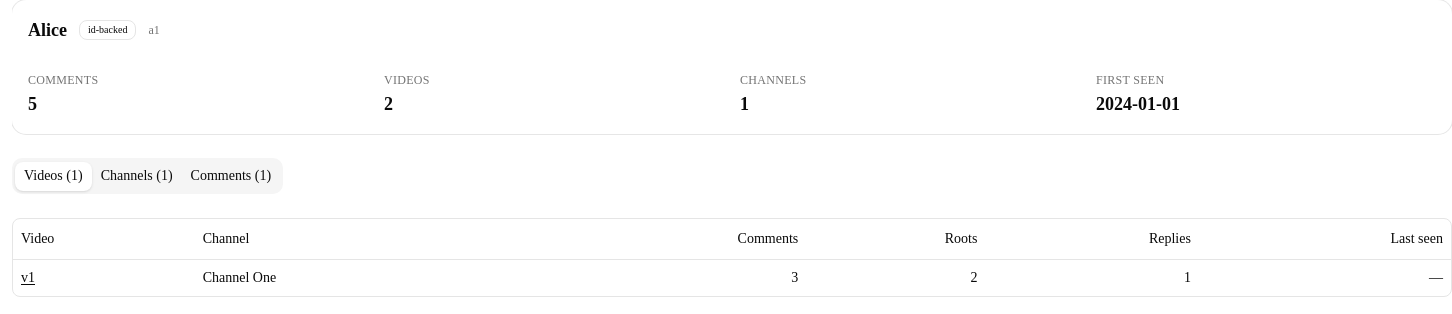
Test case: CommenterProfileView › renders comments tab
Click the tab "Comments (1)" at {"x": 231, "y": 176}, box [182,162,280,190]
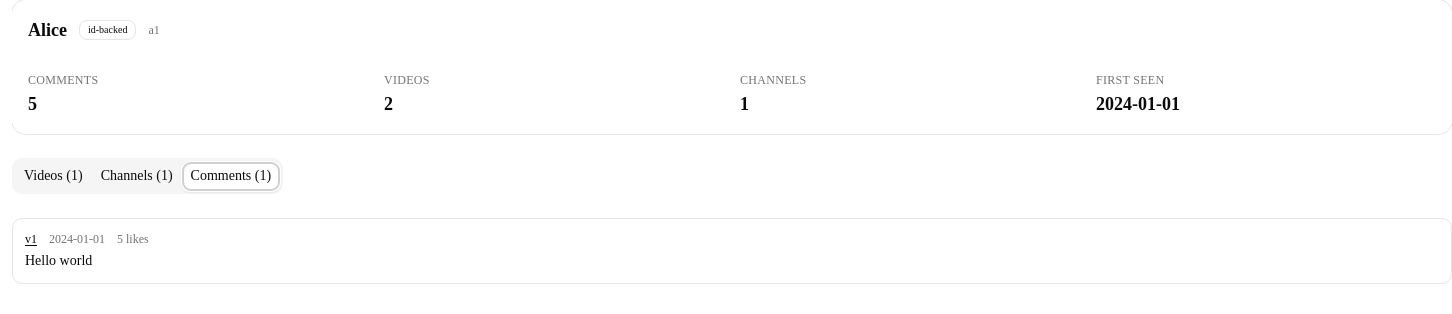
Expected: the text "Hello world" is shown, [25,253,92,268]
